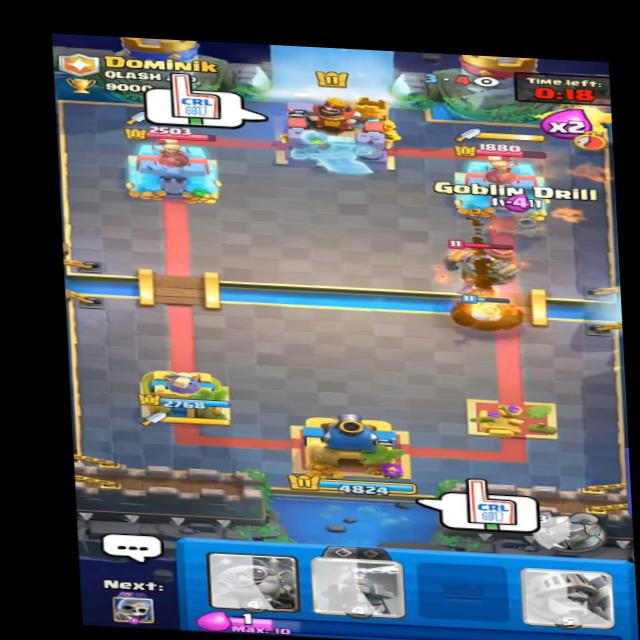goblin-machine: (436, 234, 528, 295)
phoenix: (531, 100, 618, 151)
